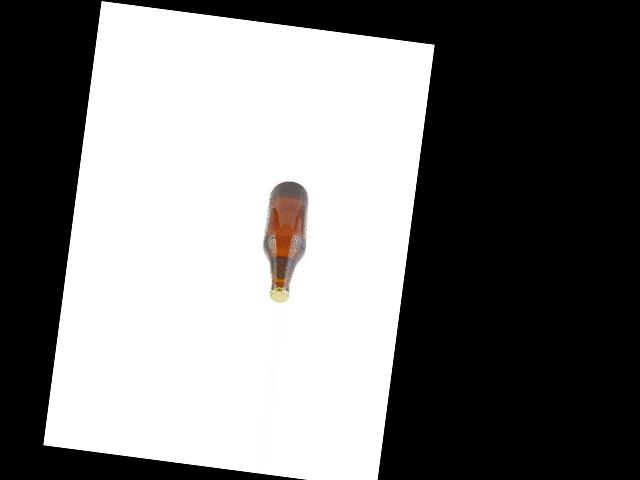beer: (256, 179, 311, 304)
